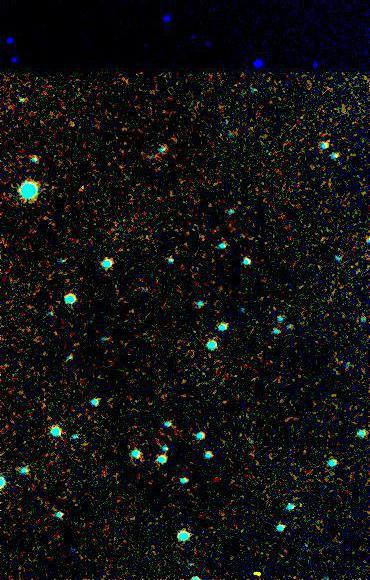star: (245, 559, 275, 580)
